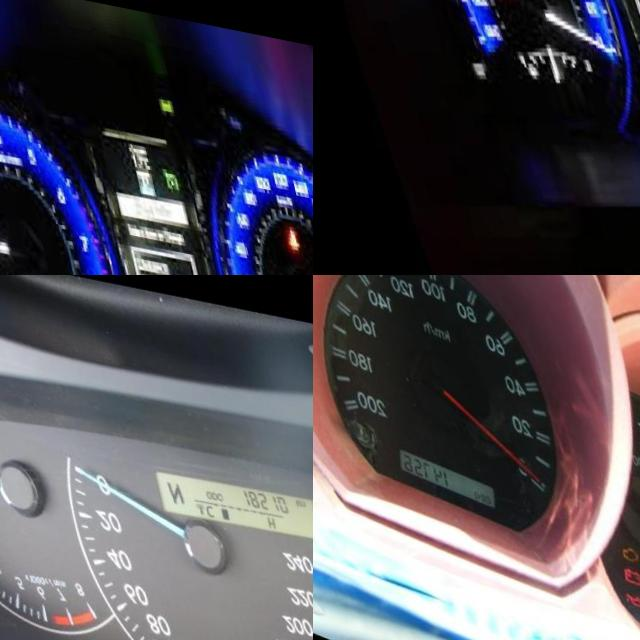Seat Belt: (277, 210, 292, 234)
